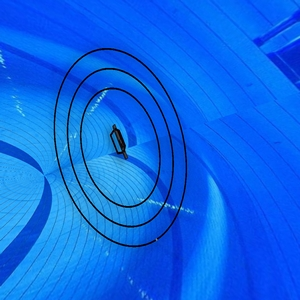circle: (48, 45, 202, 250)
submarine: (104, 122, 137, 165)
